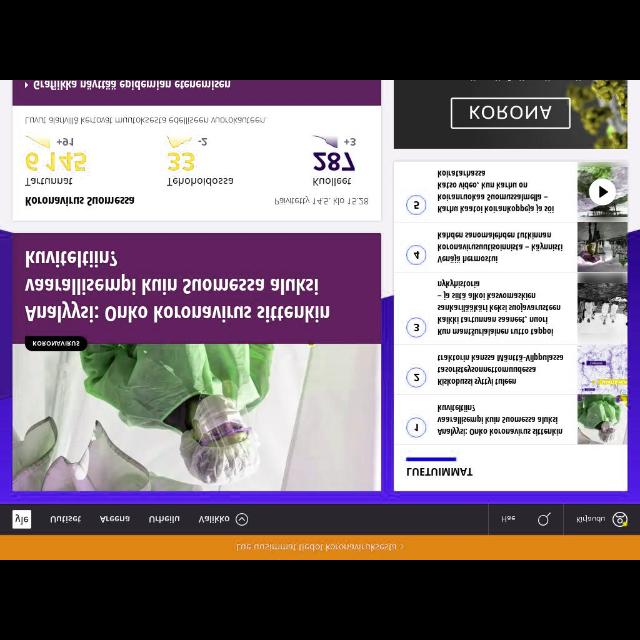icon: (612, 510, 628, 528), (537, 512, 551, 526), (236, 514, 248, 526)
image: (13, 344, 380, 490), (395, 82, 629, 148), (578, 284, 630, 342), (577, 222, 627, 272), (579, 167, 629, 216), (578, 396, 628, 444), (578, 346, 628, 394), (13, 509, 31, 529)
text: (23, 248, 329, 322), (436, 278, 560, 338), (438, 170, 554, 214), (438, 402, 562, 438), (436, 352, 566, 386), (438, 232, 564, 262), (24, 112, 268, 126), (32, 81, 234, 91), (235, 542, 397, 552), (24, 195, 134, 208), (27, 150, 89, 173), (275, 196, 369, 206), (313, 150, 353, 172), (164, 177, 233, 187), (168, 150, 196, 174), (406, 466, 472, 476), (26, 178, 76, 186), (574, 513, 606, 525), (32, 338, 80, 346), (50, 514, 82, 524), (148, 514, 180, 524), (312, 178, 352, 186), (199, 514, 229, 524), (100, 516, 130, 522), (57, 137, 75, 147), (344, 137, 356, 147), (502, 514, 516, 522), (198, 138, 208, 148)
textbutton: (564, 504, 640, 534), (489, 504, 563, 534)
toolbar: (1, 505, 639, 535)
